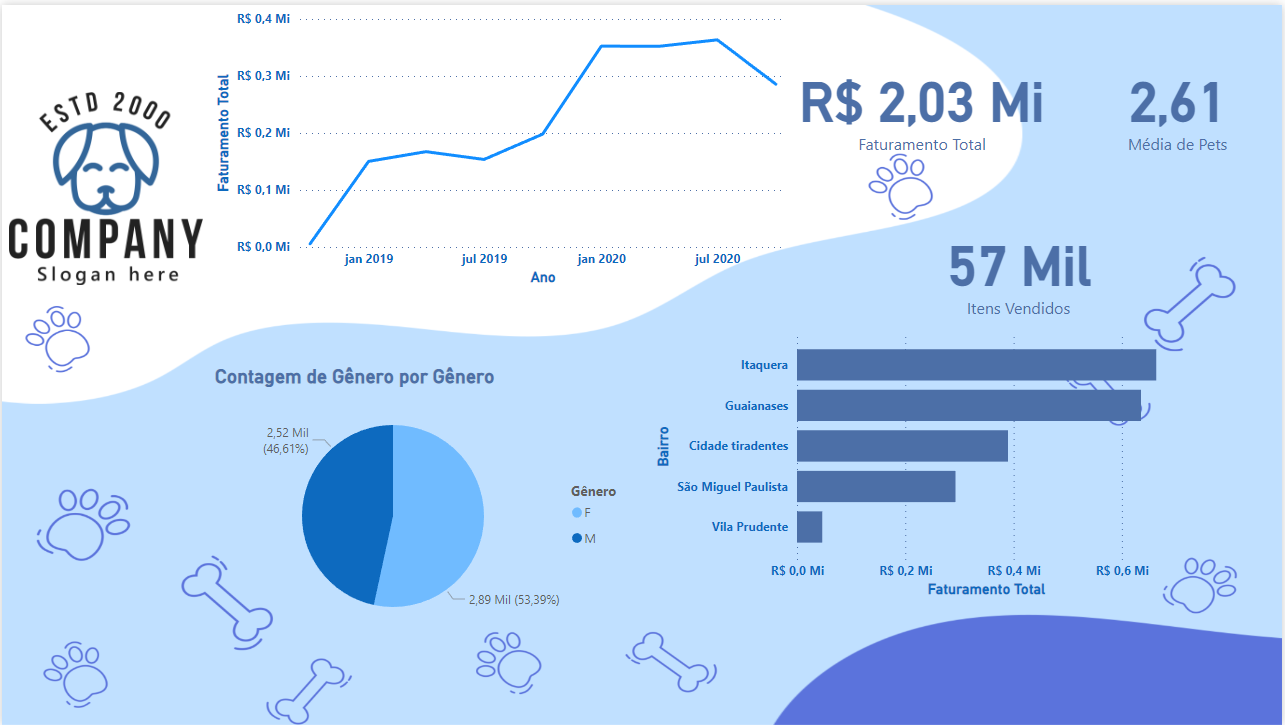

This screenshot's page, from the dashboard's own definition file:
{"tool":"powerbi","page":{"name":"Página 1","canvas":[1280,720],"ordinal":0},"visuals":[{"type":"card","fields":{"Values":["Vendas.Faturamento Total"]},"box":[753,30,334,140],"z":0},{"type":"card","fields":{"Values":["Avg(Clientes.Pets)"]},"box":[1071,30,209,140],"z":1000},{"type":"card","fields":{"Values":["Sum(Vendas.Quantidade)"]},"box":[753,212,527,104],"z":2000},{"type":"pieChart","fields":{"Category":["Clientes.Gênero"],"Y":["CountNonNull(Clientes.Gênero)"]},"box":[208,360,432,280],"z":3000},{"type":"clusteredBarChart","fields":{"Category":["Clientes.Bairro"],"Y":["Vendas.Faturamento Total"]},"box":[648,315,558,282],"z":4000},{"type":"lineChart","fields":{"Y":["Vendas.Faturamento Total"],"Category":["Vendas.Data de compra.Variation.Hierarquia de datas.Ano","Vendas.Data de compra.Variation.Hierarquia de datas.Trimestre","Vendas.Data de compra.Variation.Hierarquia de datas.Mês","Vendas.Data de compra.Variation.Hierarquia de datas.Dia"]},"box":[208,0,594,285],"z":5000},{"type":"image","box":[0,82,208,203],"z":5001}]}

Visuals, with their boxes in screenshot pixels (x1, y1, x2, y2), scaled from the page's 1280x720 canvas onto the 1285x725 screenshot:
card - Vendas.Faturamento Total: 756/30/1091/171
card - Avg(Clientes.Pets): 1075/30/1284/171
card - Sum(Vendas.Quantidade): 756/213/1284/318
pieChart - Clientes.Gênero x CountNonNull(Clientes.Gênero): 209/362/642/644
clusteredBarChart - Clientes.Bairro x Vendas.Faturamento Total: 651/317/1211/601
lineChart - Vendas.Faturamento Total x Vendas.Data de compra.Variation.Hierarquia de datas.Ano: 209/0/805/287
image: 0/83/209/287
